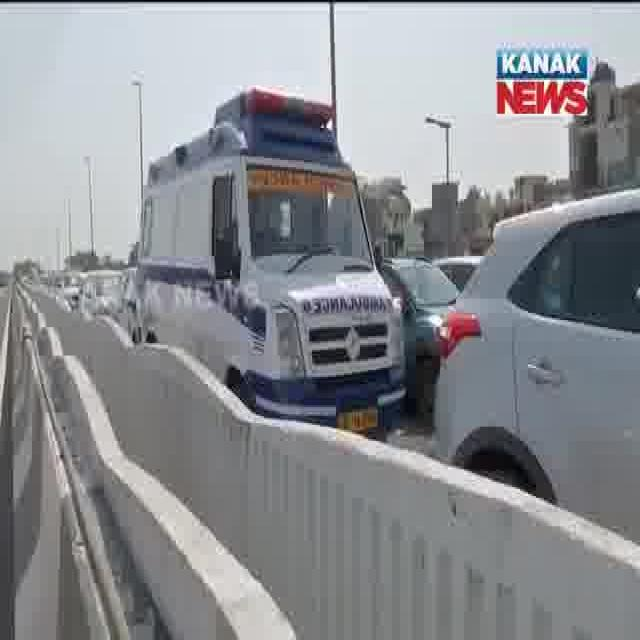ambulance: (130, 90, 400, 442)
